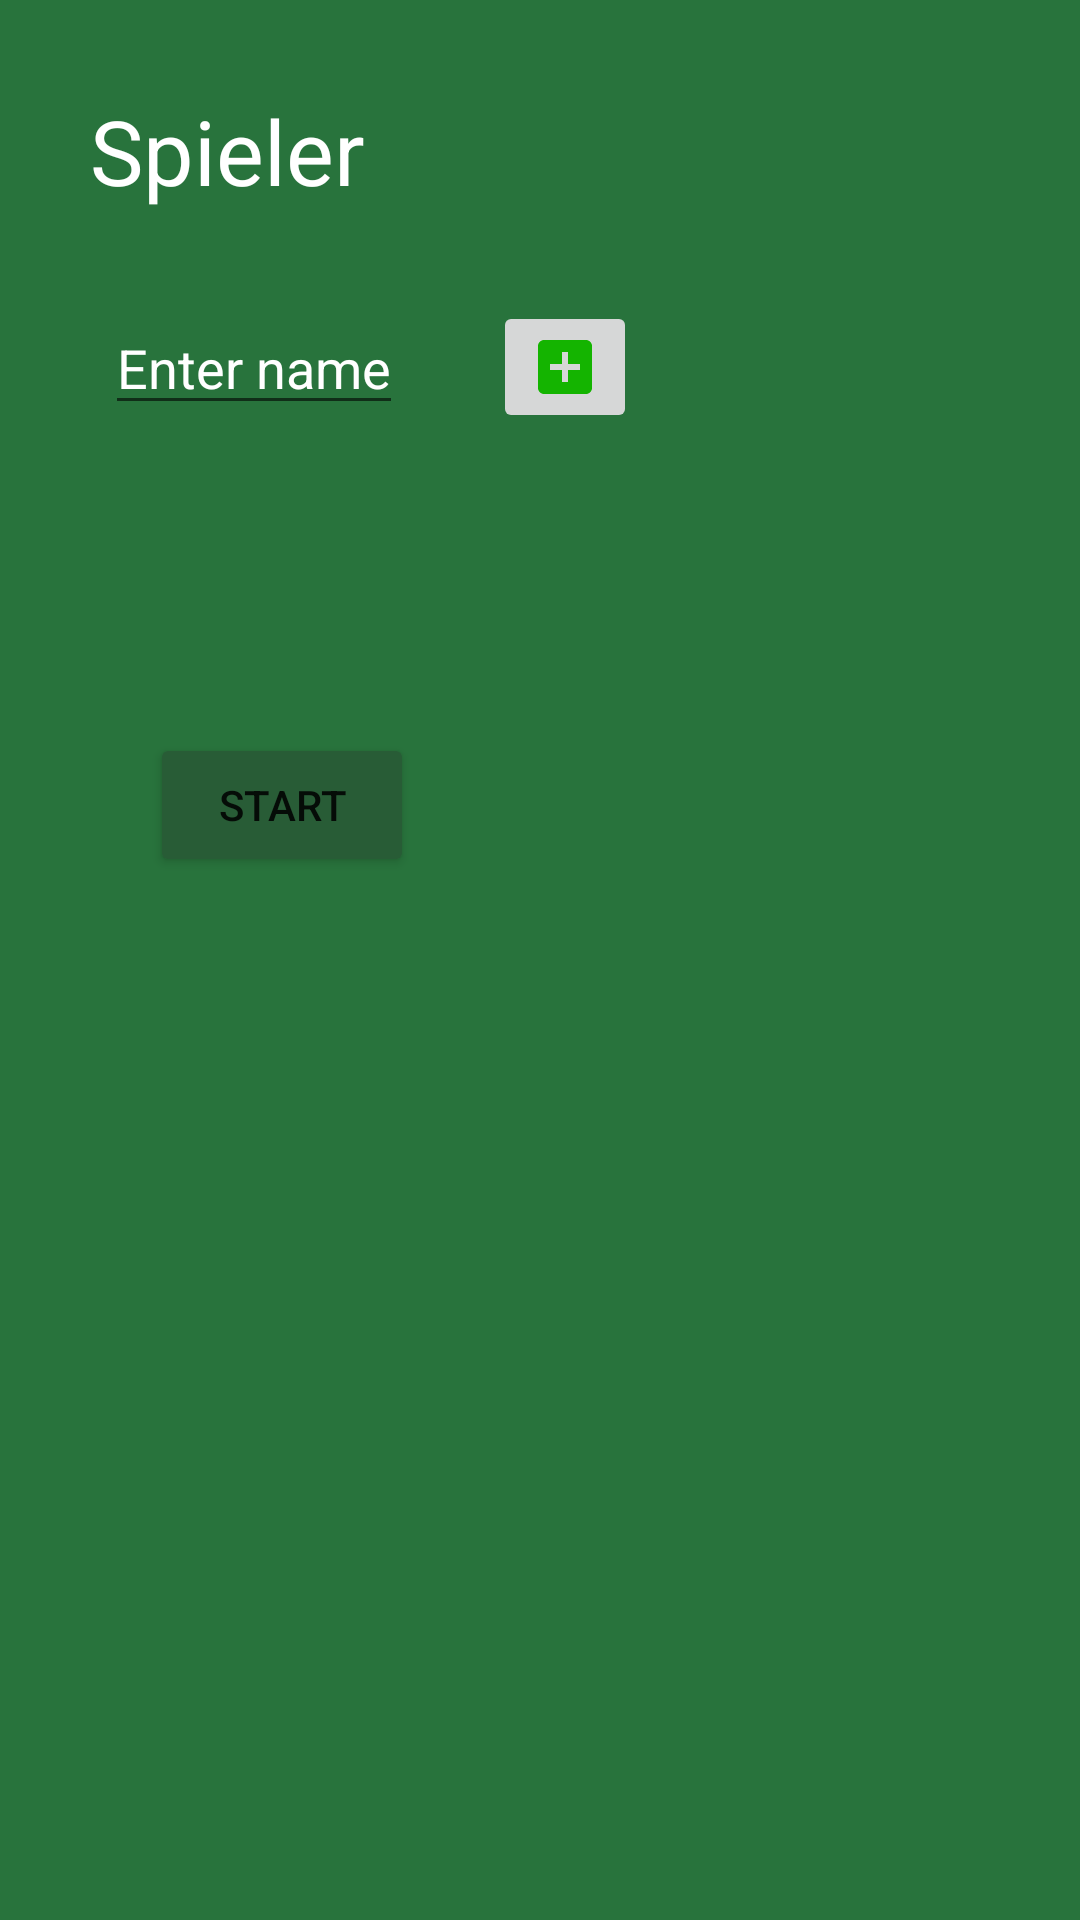

Named icons in this screenshot (1080×1920) and their centers, [x,y]:
add box: [565,367]
